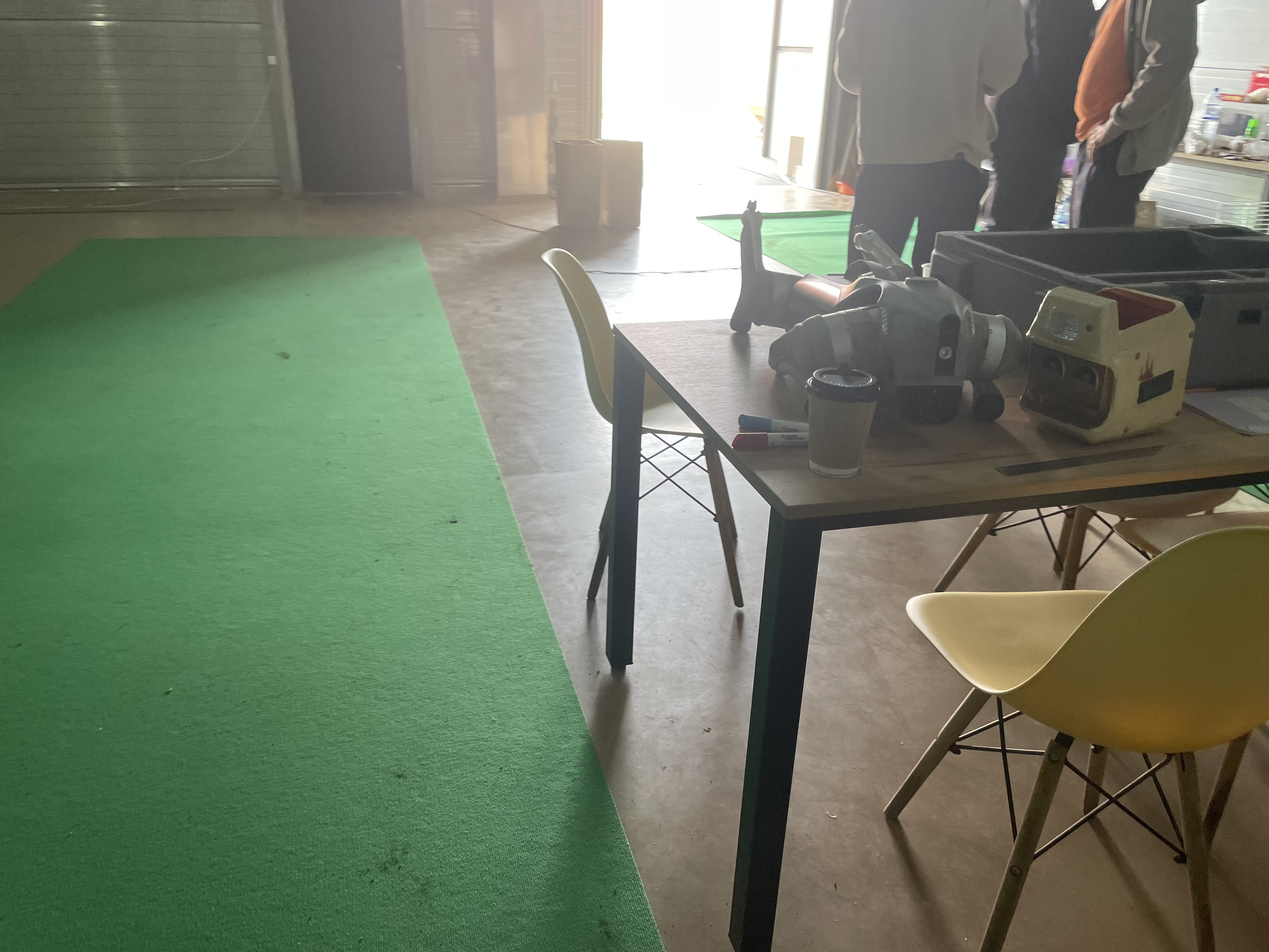cup: (804, 362, 881, 478)
